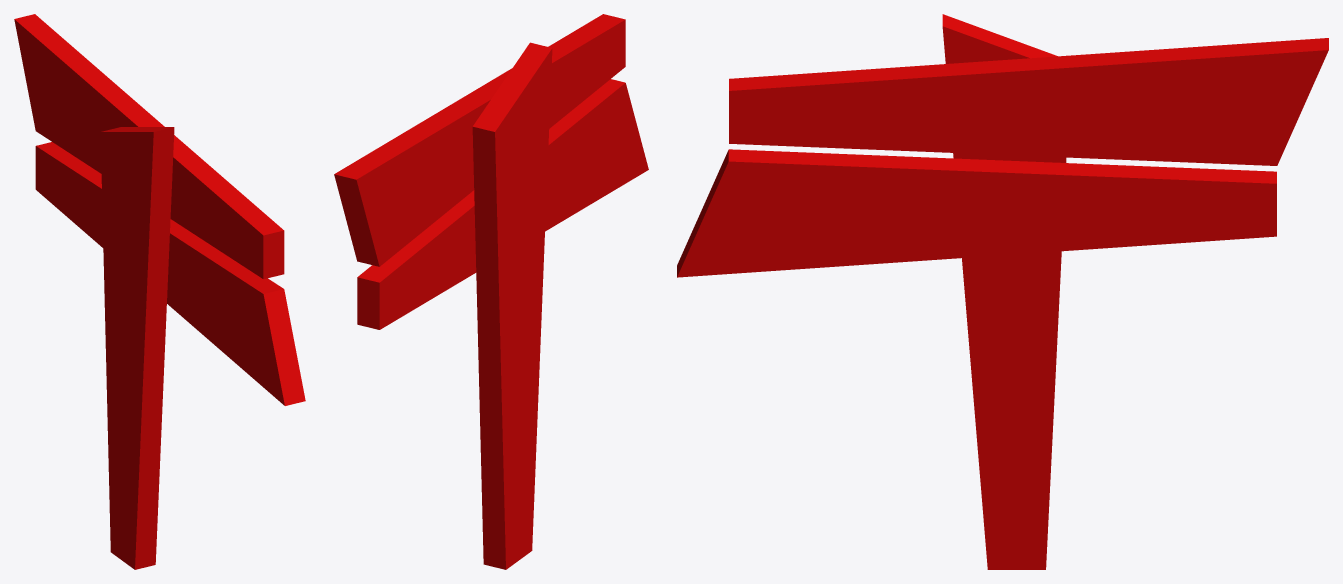
File: outpost_warning_01.fbx
The picture shows the model from 3 angles, left to right: view 1: azimuth 30°, elevation 25°; view 2: azimuth 150°, elevation 25°; view 3: azimuth 270°, elevation 25°; orthographic projection. The views are drawn at different scales.
Parts seen in each view (by area): view 1: warningsign_01; view 2: warningsign_01; view 3: warningsign_01.
Part boxes in pixels (box(x1,y1,x2,y2)): warningsign_01: box(14, 14, 305, 569); warningsign_01: box(334, 14, 648, 569); warningsign_01: box(677, 14, 1328, 569).
Size of the model in its own units: 0.7001 by 7.24 by 7.87.
